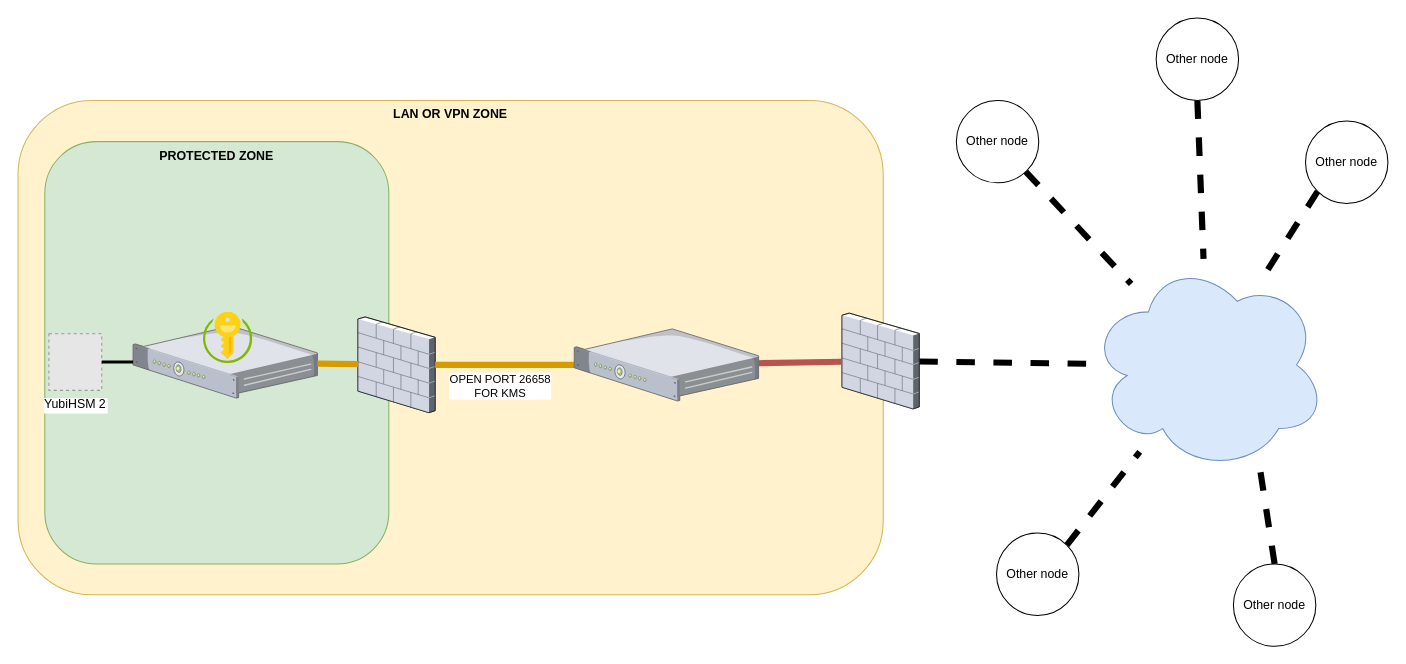
Image size: 1406x664. Some labels were removed from this diagram. Grey dashed boxes stand in for pictures. Each missing label, with the centre of its shape:
"KMS" goes at (227,337).
"OPEN PORT 26656 DDOS PROTECTION" goes at (880,360).
"P2P" goes at (1207,364).
"Validator Node" goes at (666,364).
